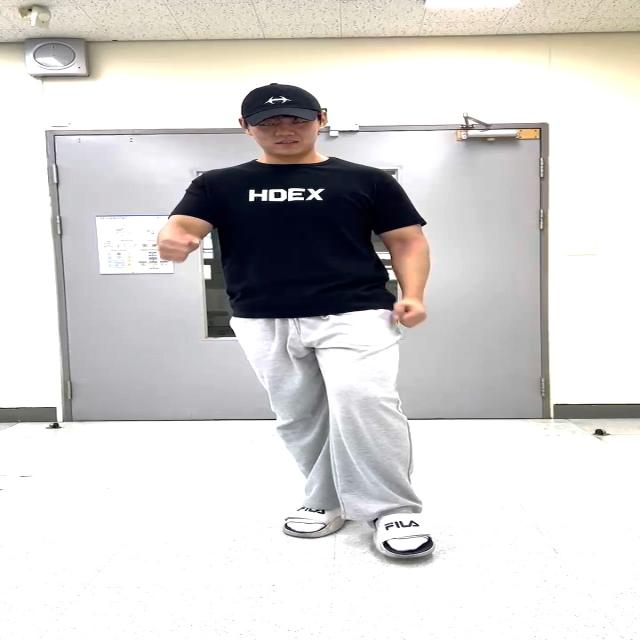leg: (325, 337, 481, 576)
